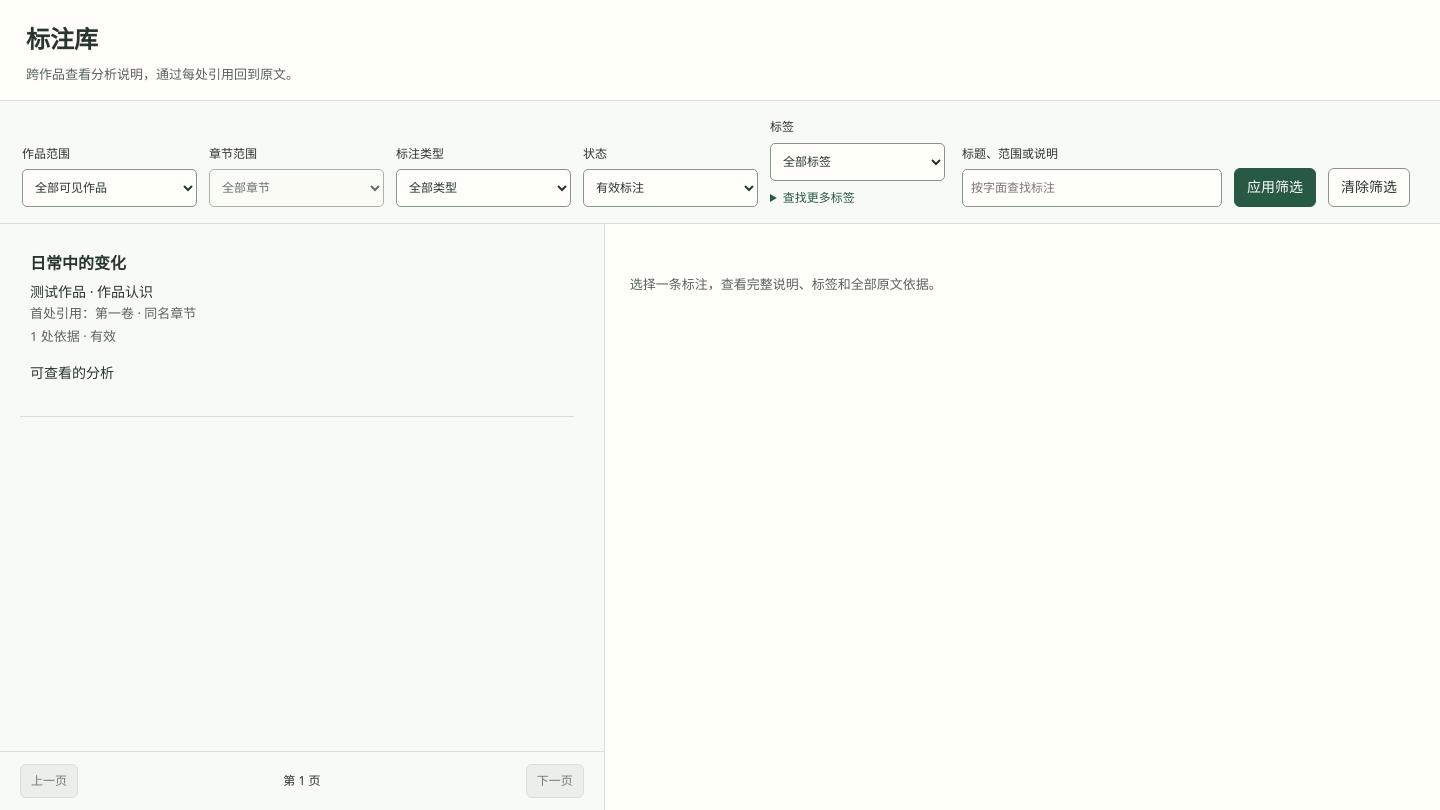
Scenario: 说明与状态筛选提交到服务端，空结果明确显示
Expected: the text "可查看的分析" is shown, [30,363,114,382]
Type "不存在" into the field named "搜索标注说明". click: (1092, 188)
box: [962,169,1222,207]
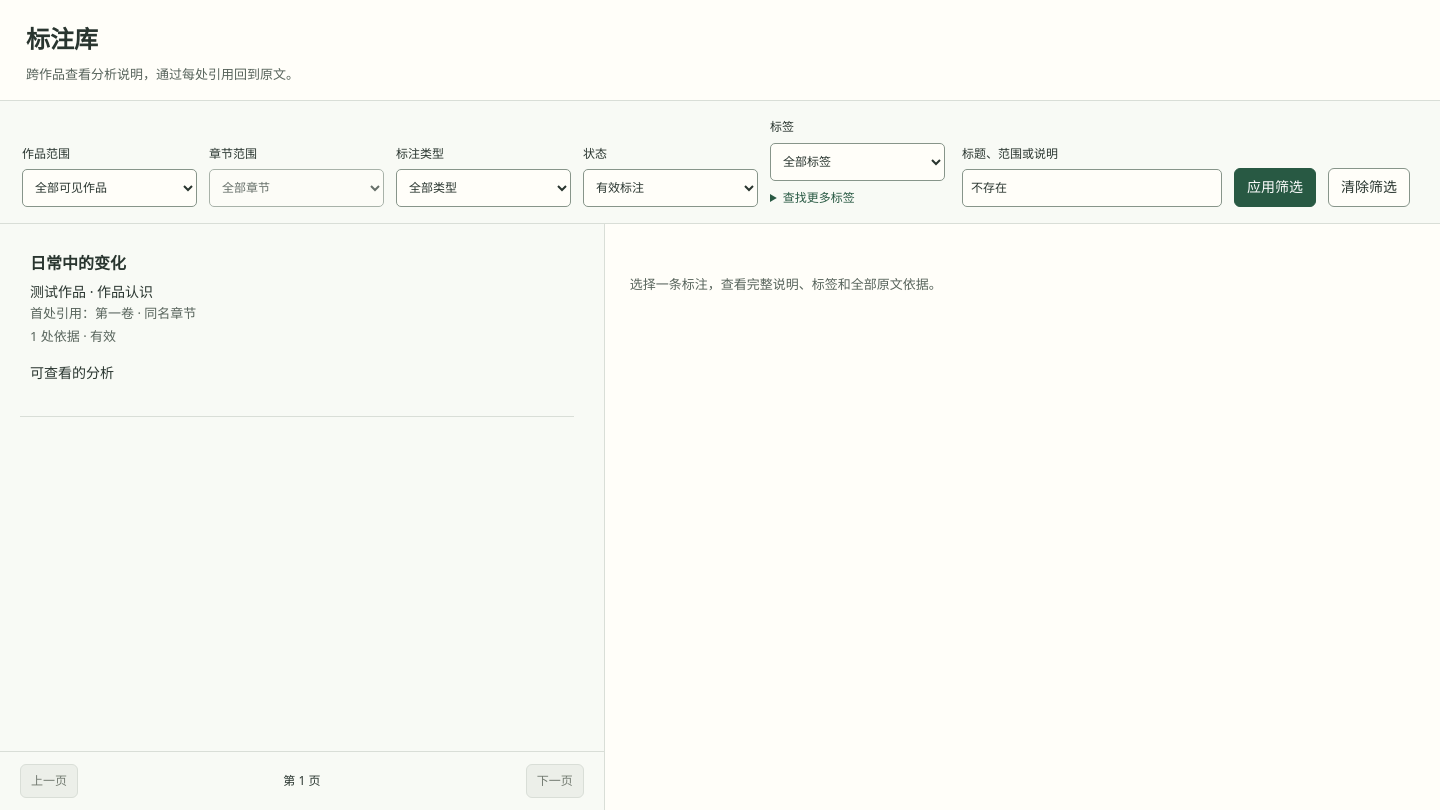
Select "已撤回" in the dropdown named "标注状态". click: (670, 188)
box: [583,169,758,207]
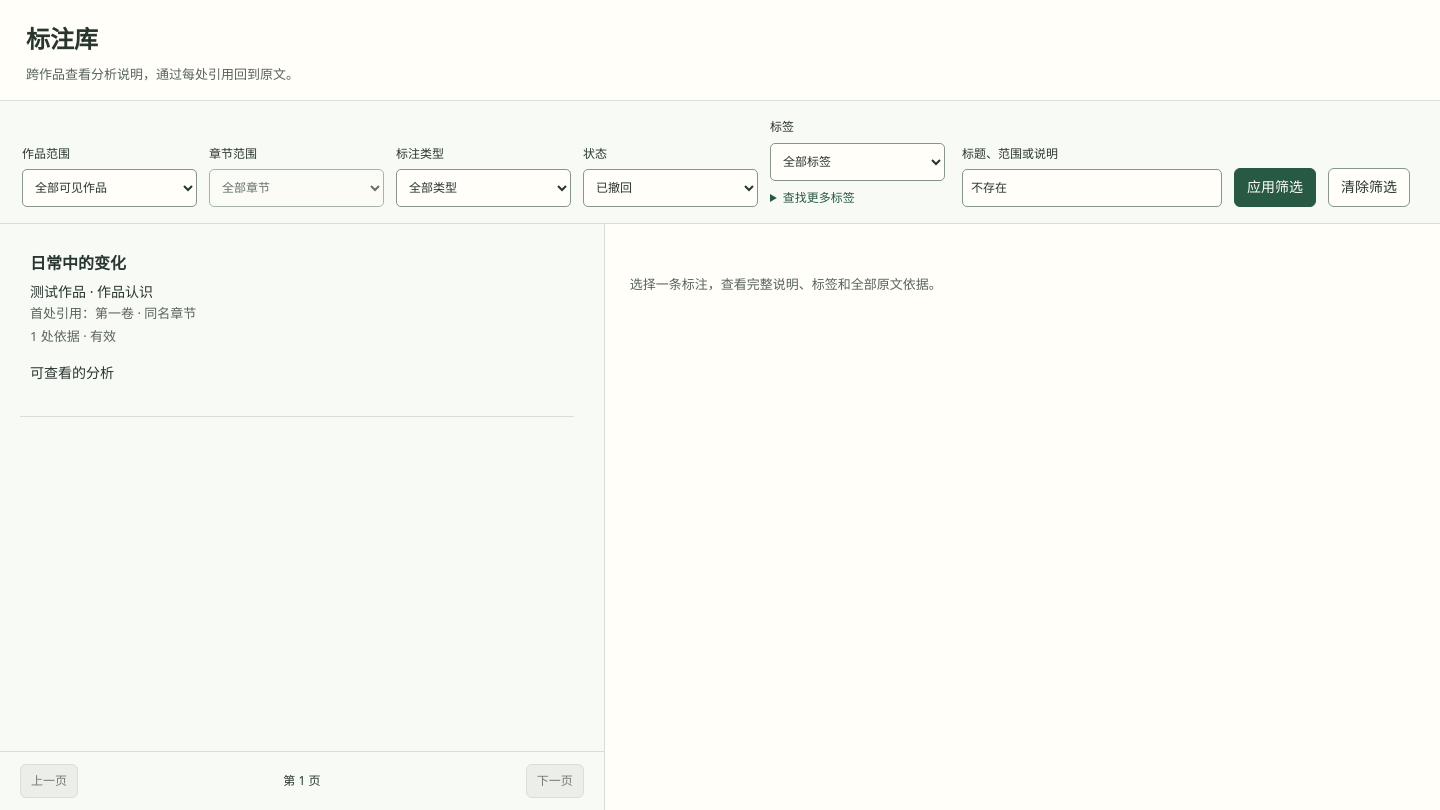
Click the button "应用筛选". click: (1275, 188)
box: [1234,168,1316,207]
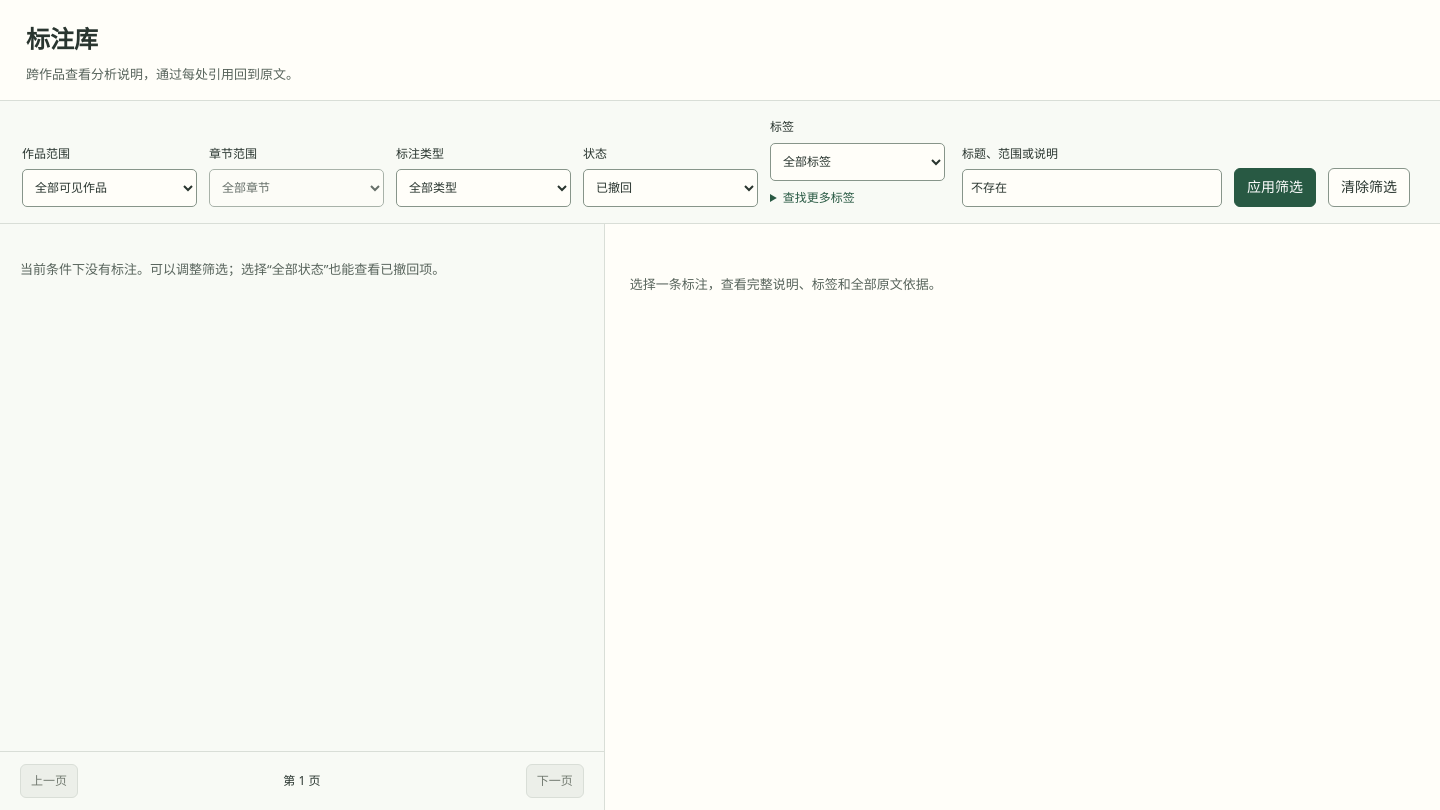
Expected: the text "当前条件下没有标注。可以调整筛选；选择“全部状态”也能查看已撤回项。" is shown, [20,260,445,278]
